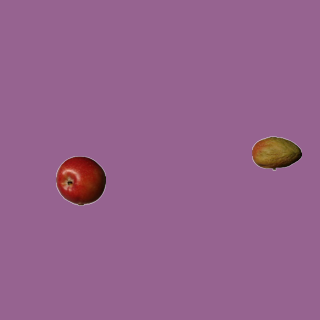Apple Braeburn: (55, 155, 105, 205)
Papaya: (251, 128, 301, 178)
